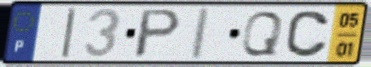3: (84, 6, 125, 60)
C: (283, 9, 331, 59)
I: (187, 5, 213, 62), (59, 6, 79, 61)
P: (131, 7, 184, 60)
Q: (239, 9, 286, 58)
